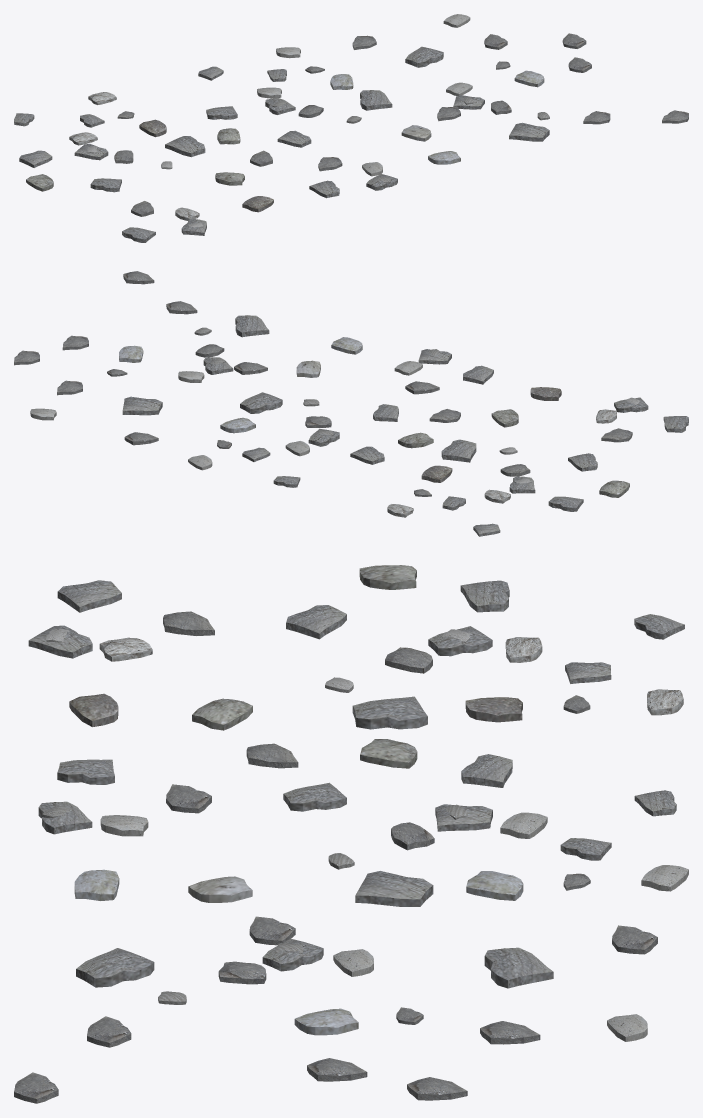
Rendered from Debris01_8.FBX.
3 views of the same model, one above another, from view 1: azimuth 30°, elevation 25°; view 2: azimuth 150°, elevation 25°; view 3: azimuth 270°, elevation 25° (orthographic). The views are drawn at different scales.
Visible parts, largest first — view 1: Debris01_1; view 2: Debris01_1; view 3: Debris01_1.
Boxes of the visible parts, x1,y1,x2,y2 form: Debris01_1: (14,14,688,242); Debris01_1: (14,271,688,536); Debris01_1: (14,565,688,1103).
Bounding box in the file's own units: 221 × 2.58 × 118.
